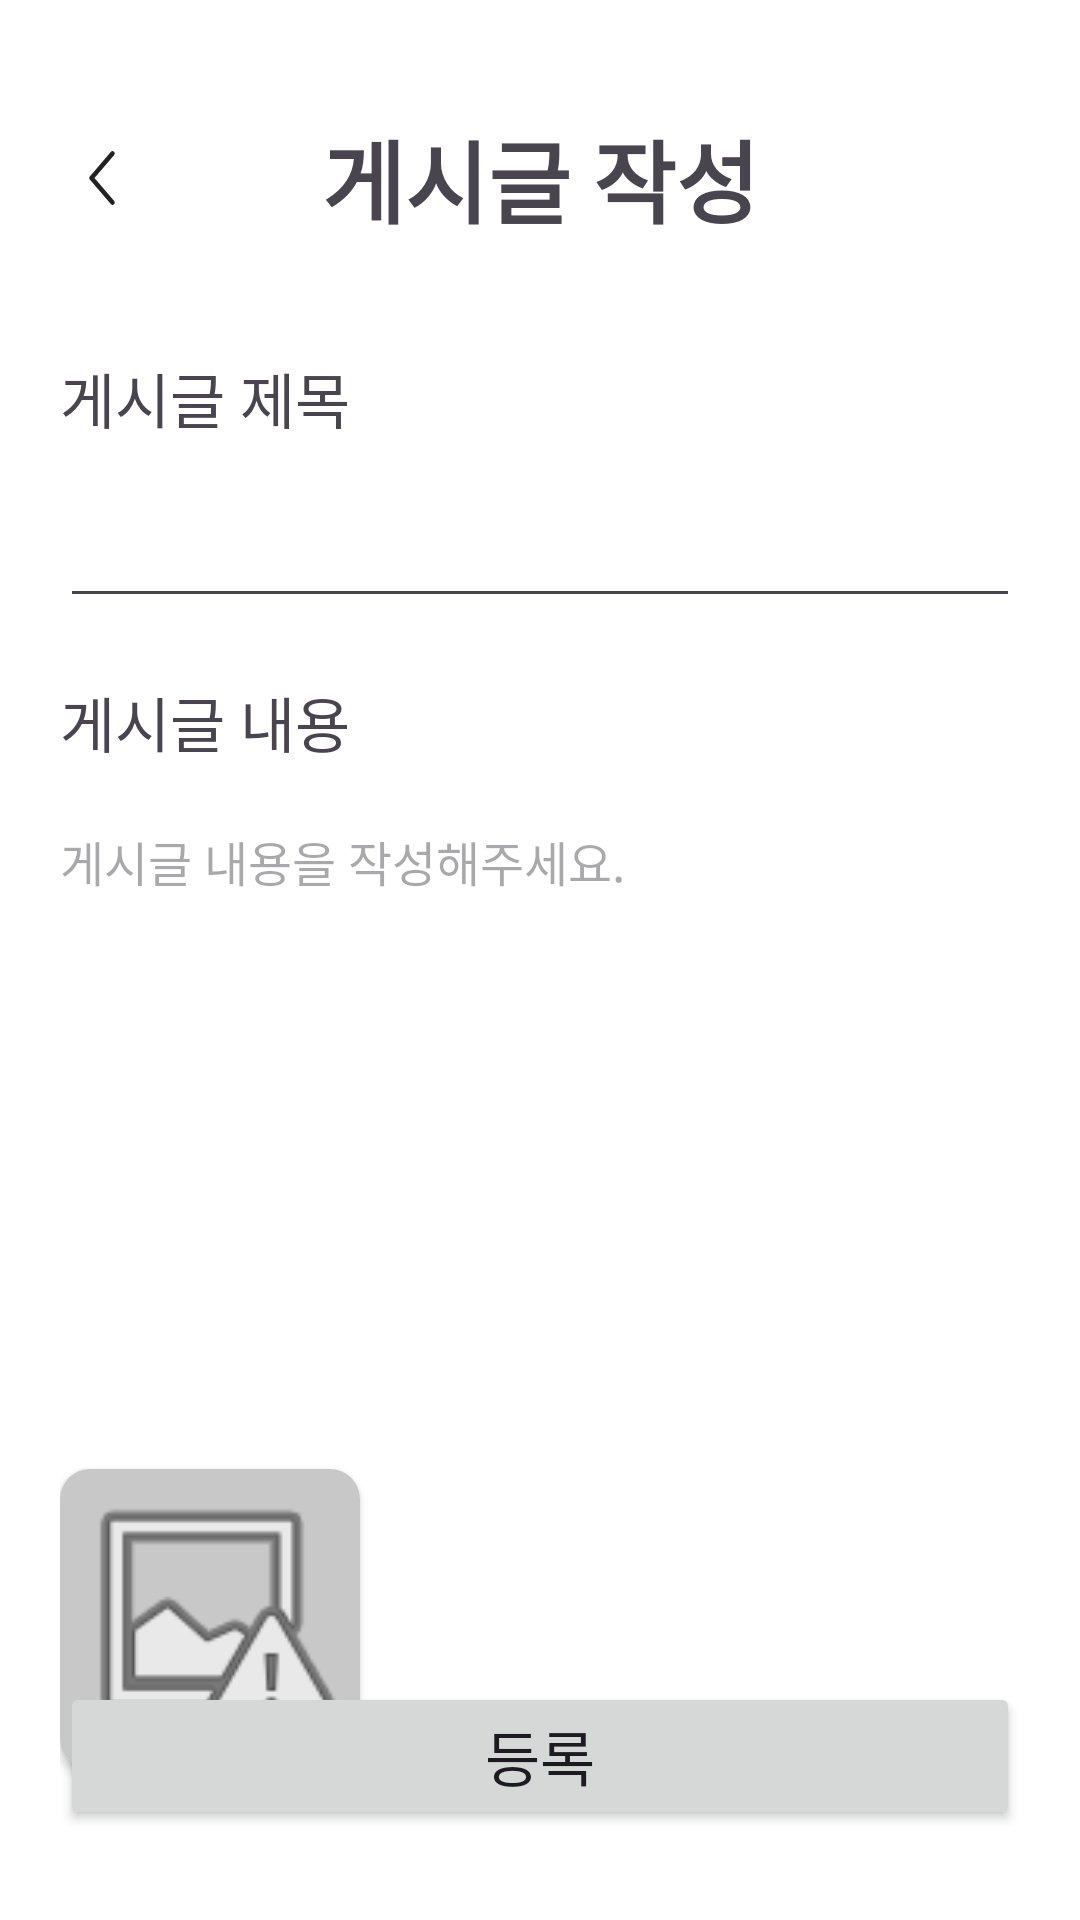

Icon click points for this 1080×1920 phone screenshot, format point (x, y):
back: point (102, 178)
